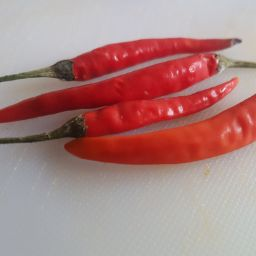Cayenne pepper: (5, 53, 256, 166), (74, 37, 256, 177)
